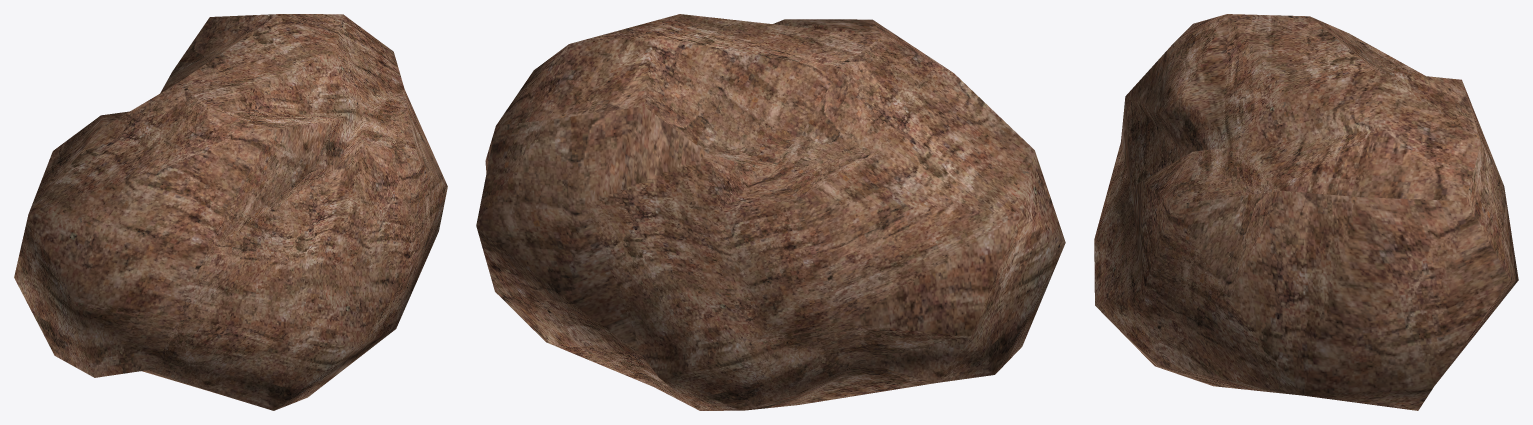
The model's file is rock_dath_desertboulder_a2_l2.fbx.
3 renders of one model, left to right at view 1: azimuth 30°, elevation 25°; view 2: azimuth 150°, elevation 25°; view 3: azimuth 270°, elevation 25°, orthographic. The views are drawn at different scales.
Visible parts, largest first — view 1: mesh_node; view 2: mesh_node; view 3: mesh_node.
Boxes of the visible parts, <box> form: mesh_node: <box>14,14,447,410</box>; mesh_node: <box>476,14,1065,410</box>; mesh_node: <box>1094,14,1518,410</box>.
Size of the model in its own units: 1.8 by 1.21 by 1.39.
